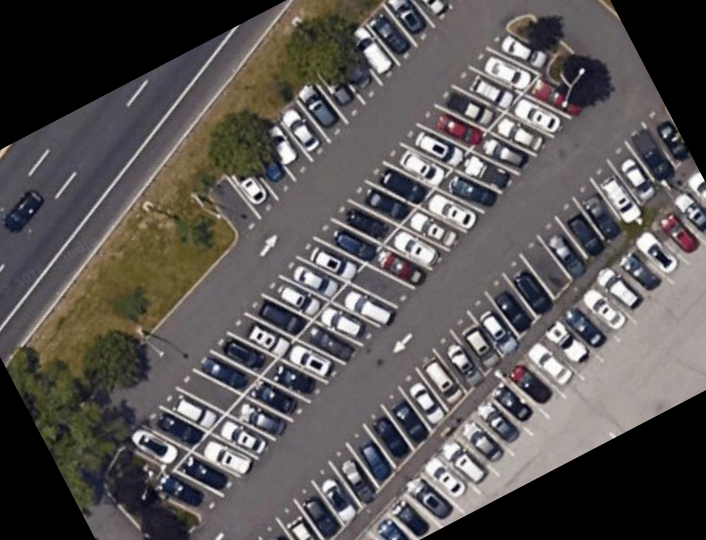parkingspot: (116, 24, 606, 521), (251, 98, 693, 540), (355, 169, 706, 540), (205, 0, 463, 245)
